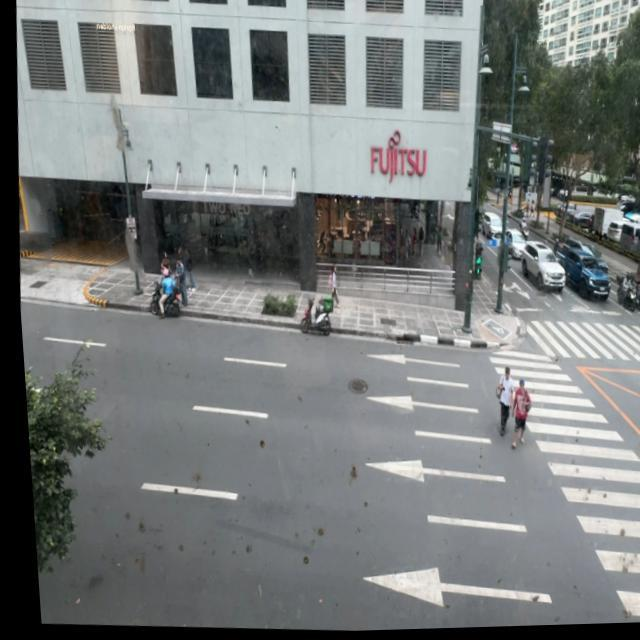jaywalking: (505, 376, 535, 448), (492, 365, 520, 438)
